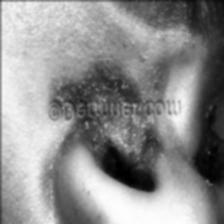Toxin: (52, 66, 139, 102), (125, 118, 161, 168), (204, 99, 218, 127)
